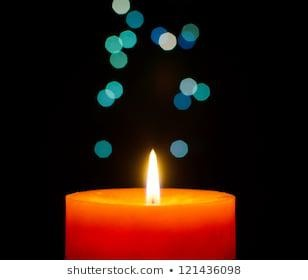fire: (143, 146, 159, 205)
